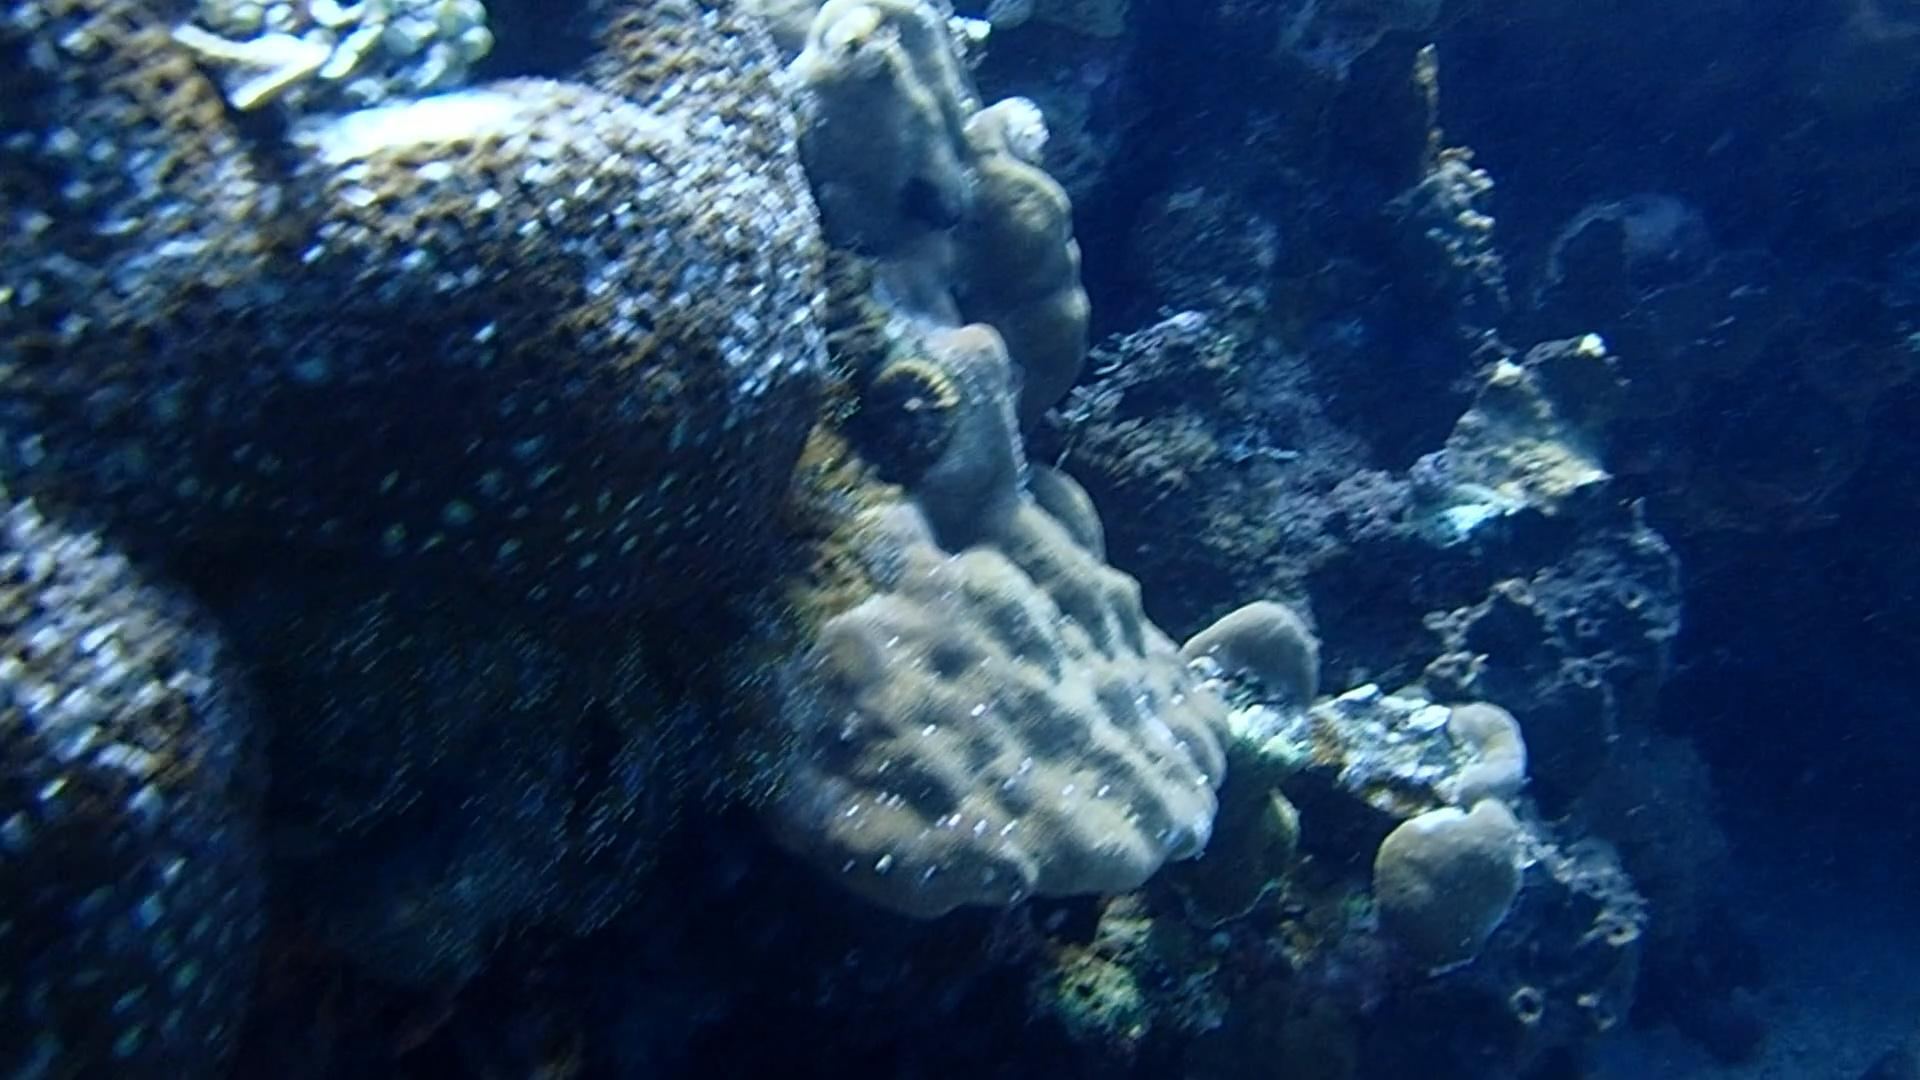Dark Fish: (882, 160, 975, 245), (1104, 360, 1201, 430)
